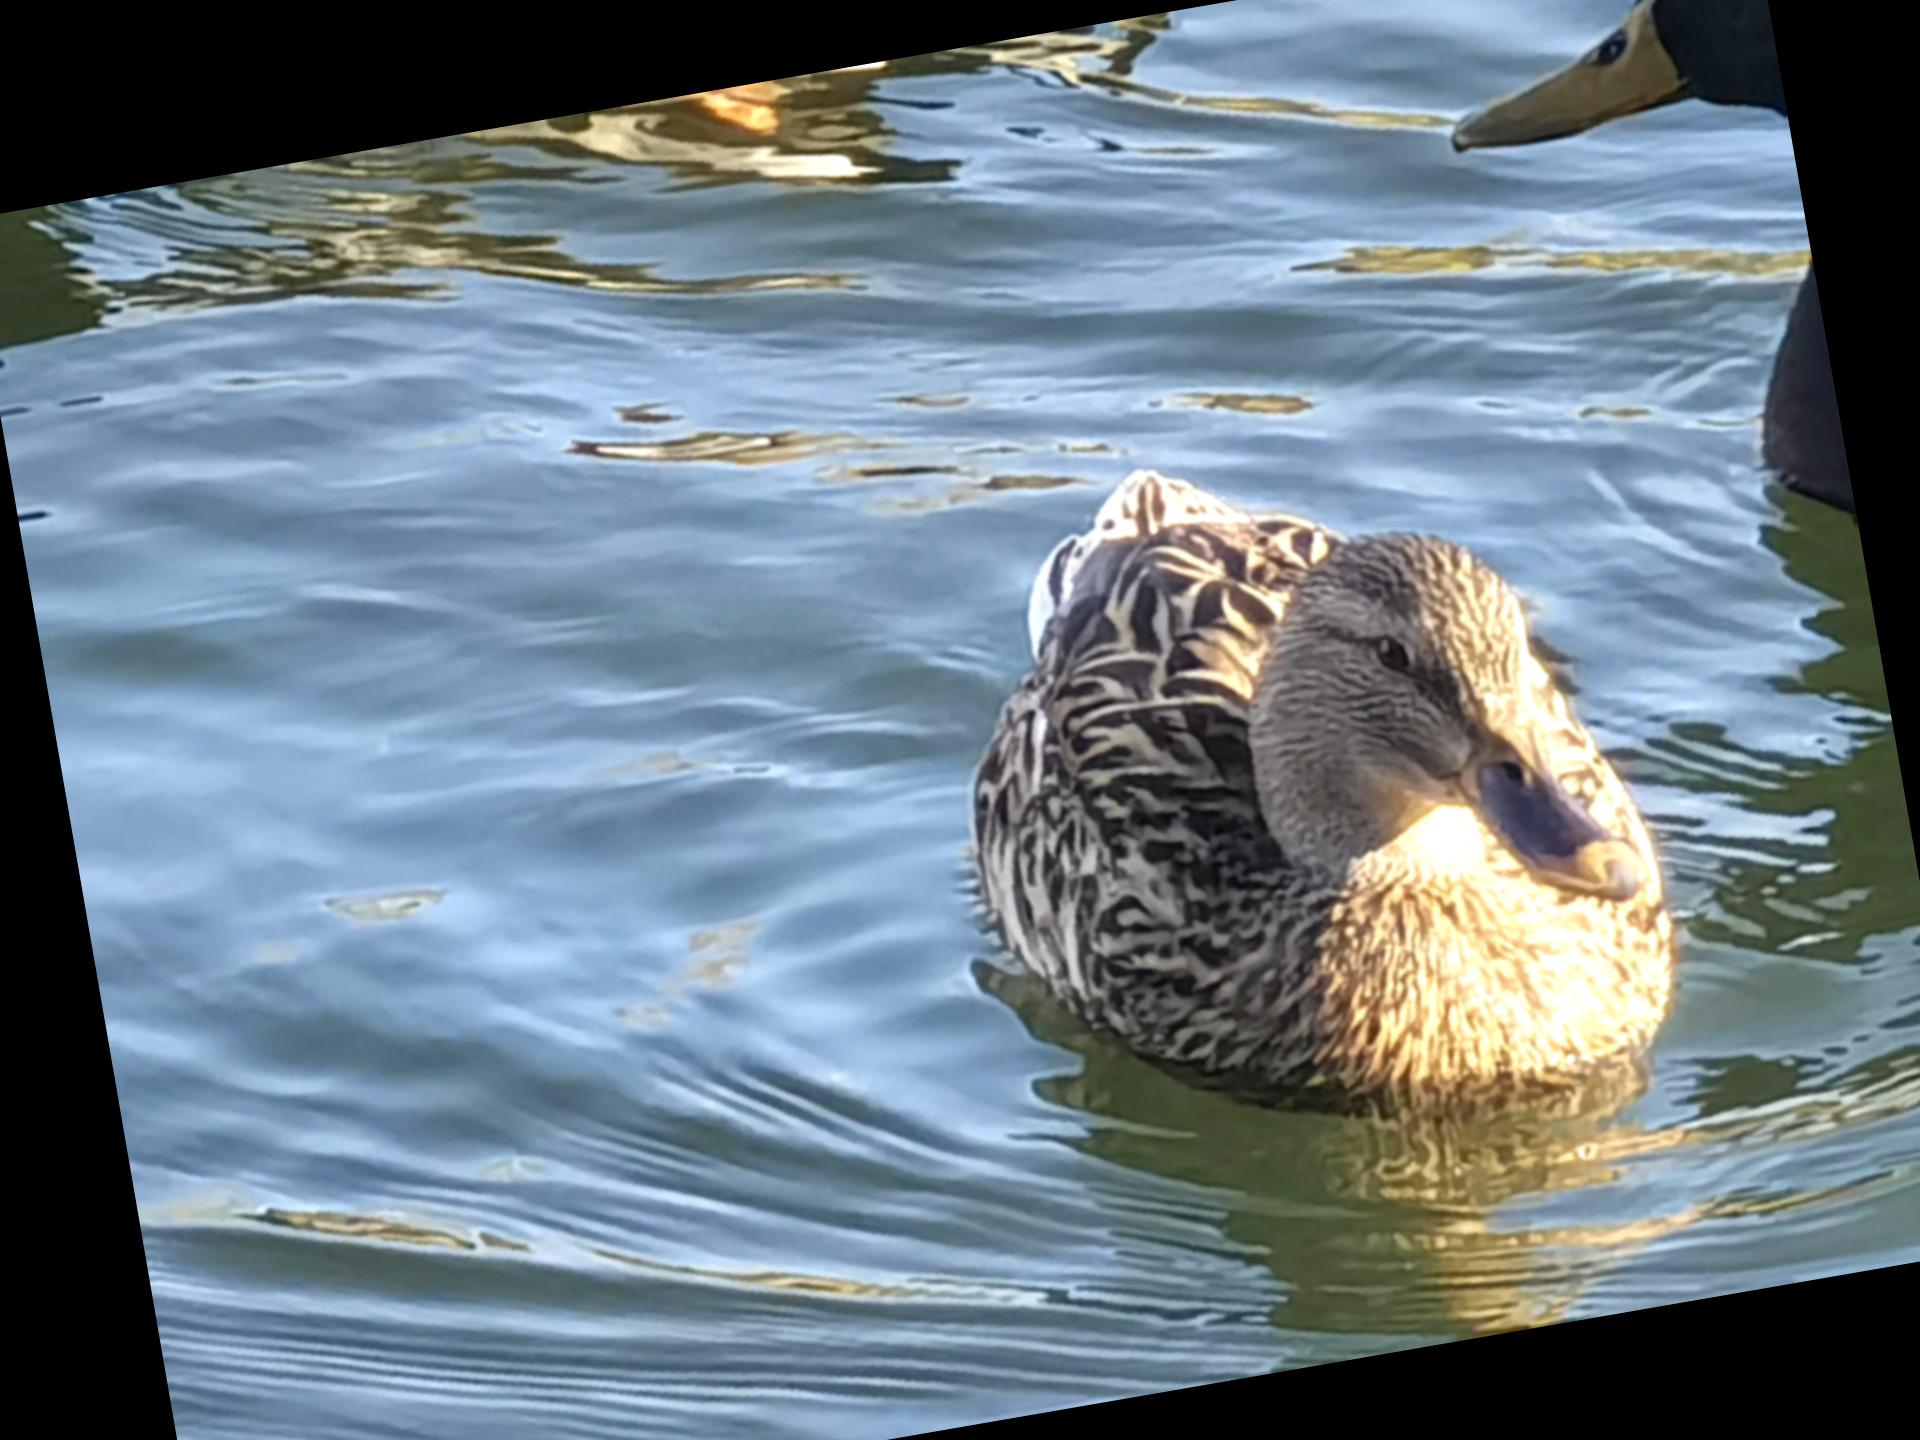duck: (881, 343, 1733, 1186)
